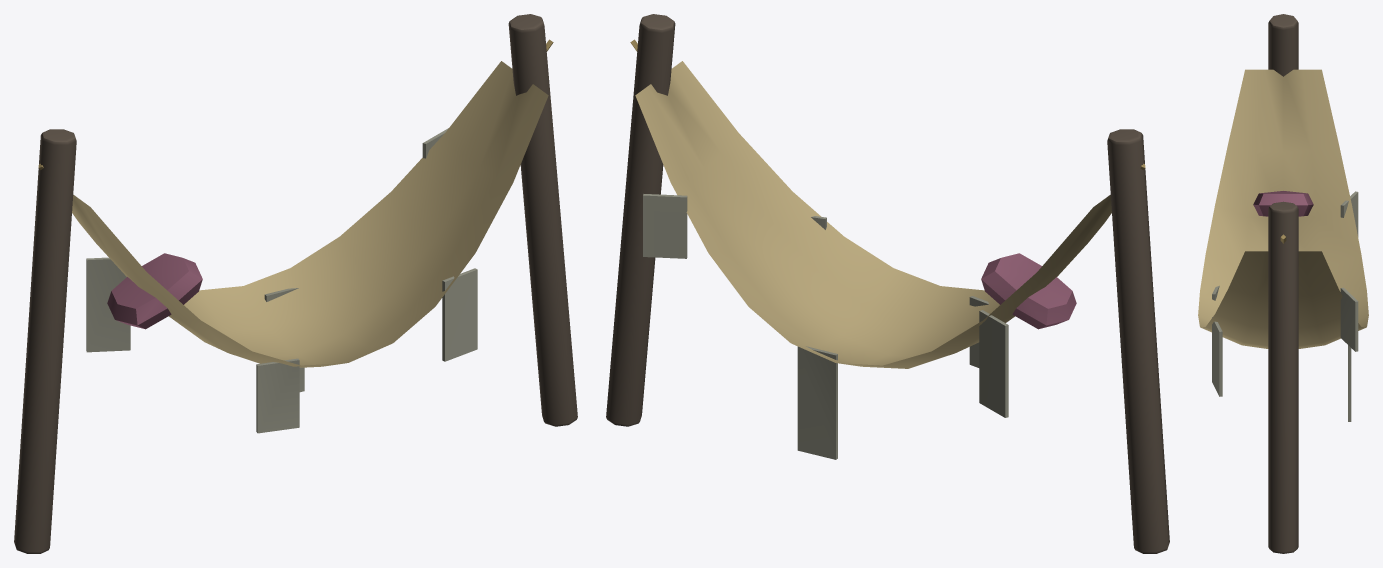
Rendered from hammock_moss.glb.
3 renders of one model, left to right at view 1: azimuth 30°, elevation 25°; view 2: azimuth 150°, elevation 25°; view 3: azimuth 270°, elevation 25°, orthographic. The views are drawn at different scales.
Parts seen in each view (by area): view 1: hammock_moss; view 2: hammock_moss; view 3: hammock_moss.
Part boxes in pixels (x1,y1,x2,y2): hammock_moss: (14,14,577,553); hammock_moss: (606,14,1169,553); hammock_moss: (1198,14,1368,553).
Size of the model in its own units: 1.91 by 1.33 by 0.62.
